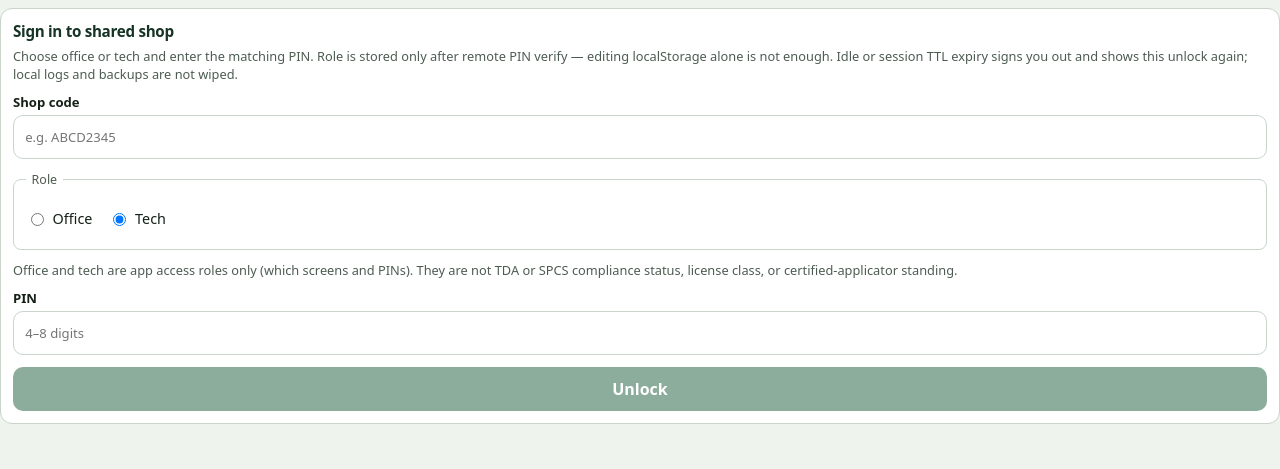
it: ShopSessionGate: sign in › passes code, role and PIN to signInShop; success clears the PIN, shows the message, notifies
Step 1. Type "abcd2345" into the field labelled "Shop code" → point(640, 138), box [13, 116, 1267, 160]
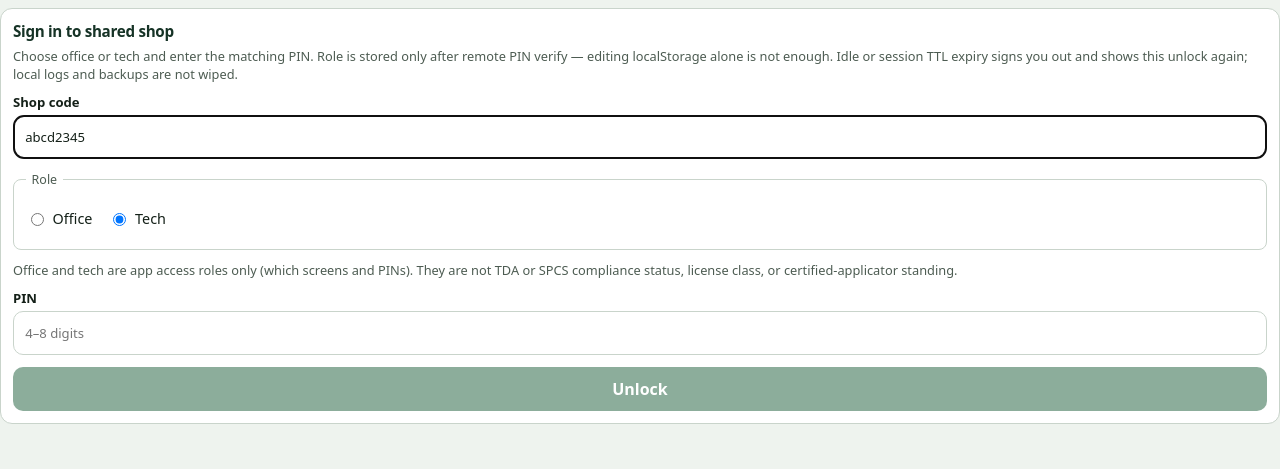
Step 2. Click the radio button labelled "Office" → point(38, 220), box [31, 213, 44, 226]
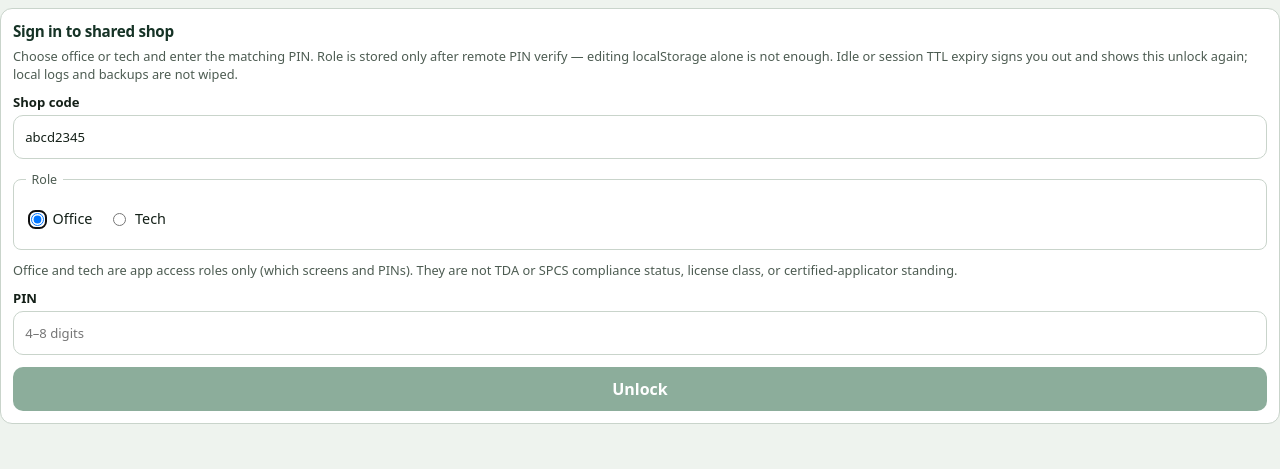
Step 3. Type "2468" into the password field named "Role PIN" → point(640, 334), box [13, 312, 1267, 356]
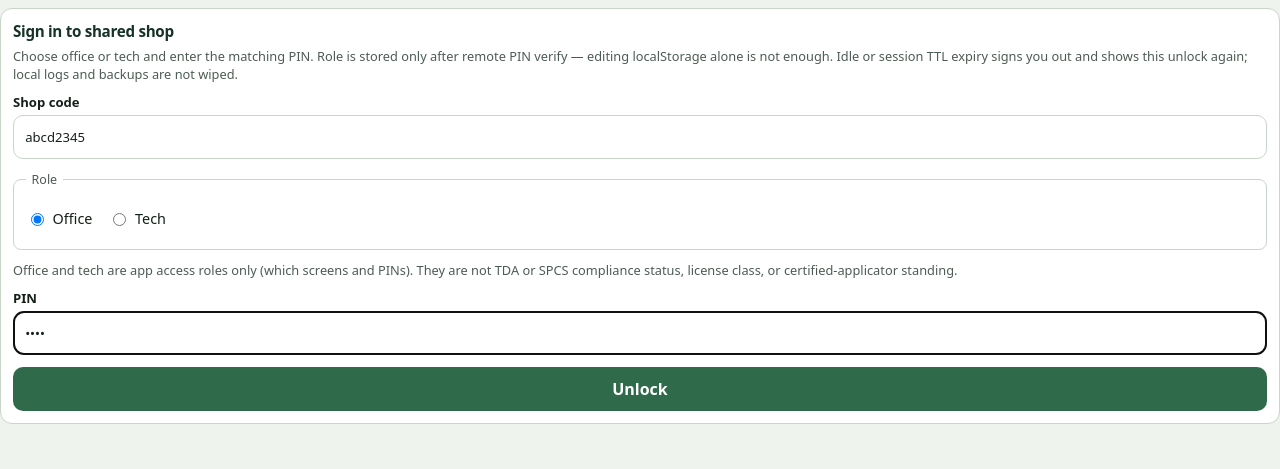
Step 4. Click the button "Unlock" → point(640, 389), box [13, 367, 1267, 411]
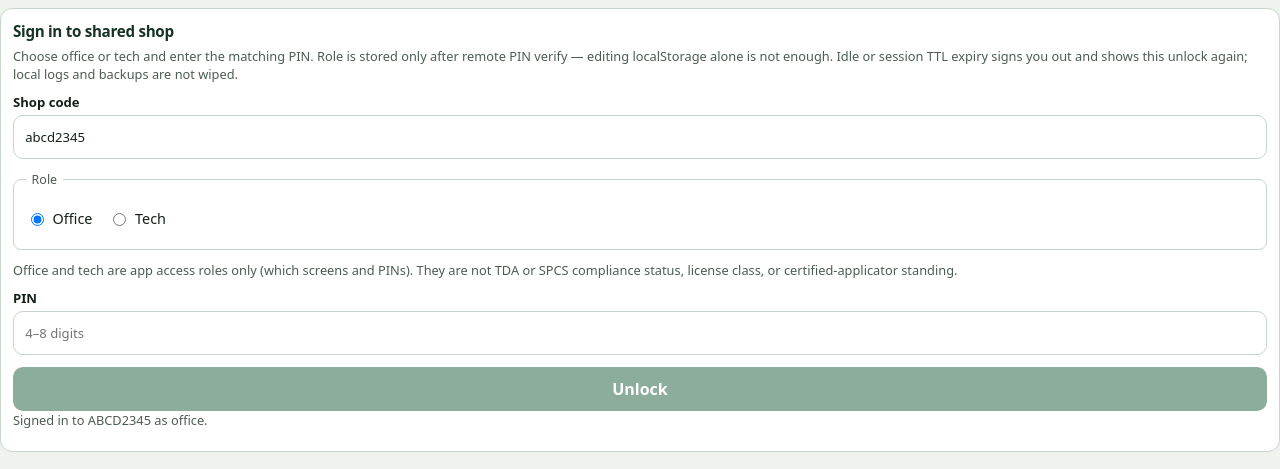
Expected: the password field named "Role PIN" is empty, [13, 312, 1267, 356]
Expected: the message reads "Signed in to ABCD2345 as office.", [13, 411, 208, 429]
